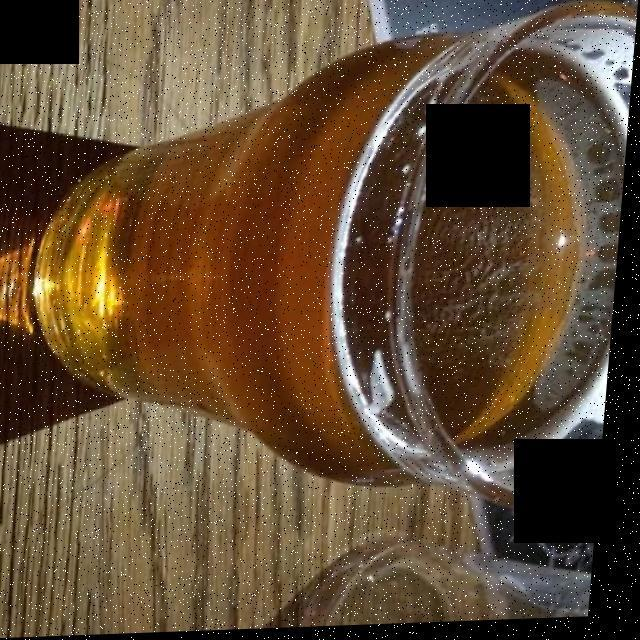beer: (411, 76, 579, 442)
